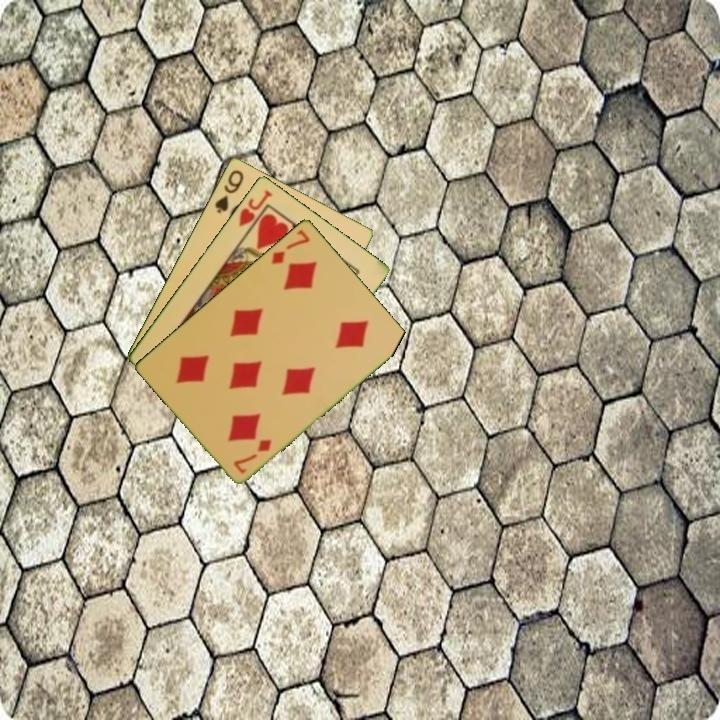7d: (268, 225, 313, 267), (230, 435, 275, 476)
9s: (211, 166, 246, 216)
Jh: (235, 186, 275, 238)
